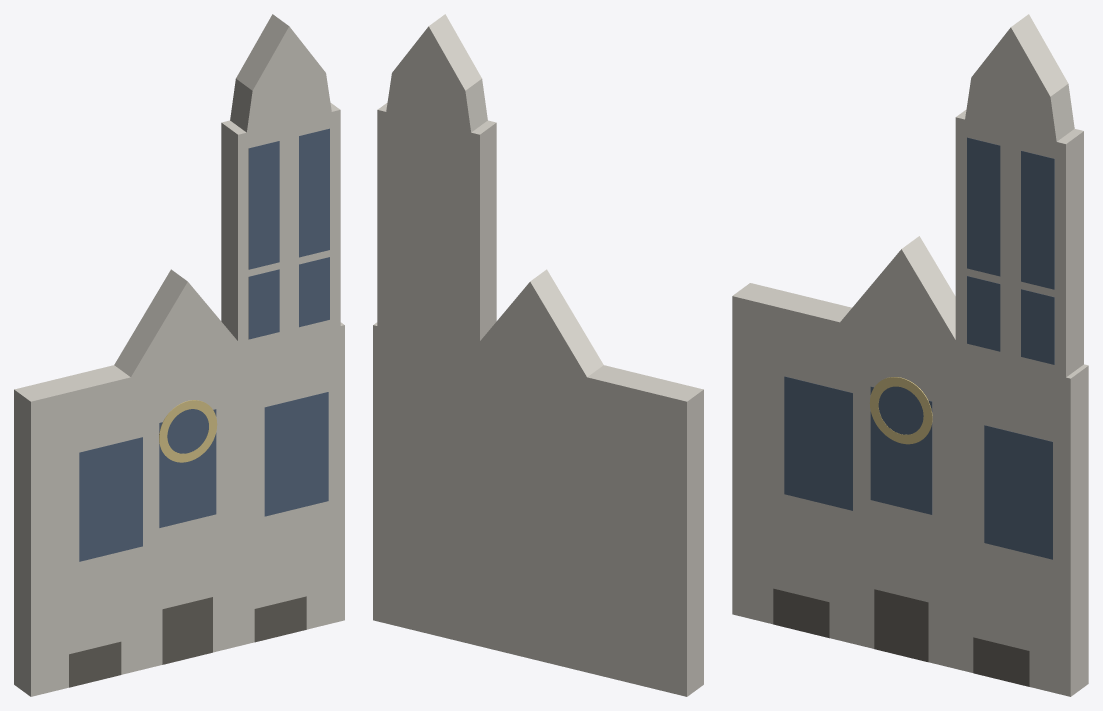
Rendered from SM_Facade.glb.
3 views of the same model, side by side, from view 1: azimuth 30°, elevation 25°; view 2: azimuth 150°, elevation 25°; view 3: azimuth 330°, elevation 25° (orthographic). The views are drawn at different scales.
Parts seen in each view (by area): view 1: SM_Facade_0, SM_Facade_4, SM_Facade_11, SM_Facade_12, SM_Facade_7, SM_Facade_5, SM_Facade_8, SM_Facade_6, SM_Facade_1, SM_Facade_9, SM_Facade_10, SM_Facade_2 (+3 smaller); view 2: SM_Facade_0; view 3: SM_Facade_0, SM_Facade_4, SM_Facade_11, SM_Facade_12, SM_Facade_5, SM_Facade_7, SM_Facade_6, SM_Facade_8, SM_Facade_1, SM_Facade_9, SM_Facade_10, SM_Facade_2 (+3 smaller).
Boxes of the visible parts, x1,y1,x2,y2 form: SM_Facade_0: [14, 14, 344, 696]; SM_Facade_4: [159, 409, 216, 527]; SM_Facade_11: [248, 141, 279, 269]; SM_Facade_12: [299, 128, 329, 257]; SM_Facade_7: [264, 399, 296, 516]; SM_Facade_5: [79, 445, 111, 561]; SM_Facade_8: [296, 392, 328, 508]; SM_Facade_6: [111, 437, 142, 553]; SM_Facade_1: [162, 597, 212, 664]; SM_Facade_9: [248, 269, 279, 339]; SM_Facade_10: [299, 257, 329, 327]; SM_Facade_2: [69, 641, 121, 687]; SM_Facade_0: [373, 14, 703, 696]; SM_Facade_0: [732, 14, 1088, 696]; SM_Facade_4: [870, 386, 932, 514]; SM_Facade_11: [967, 137, 1000, 276]; SM_Facade_12: [1021, 150, 1054, 289]; SM_Facade_5: [784, 376, 818, 502]; SM_Facade_7: [984, 425, 1018, 551]; SM_Facade_6: [818, 385, 852, 510]; SM_Facade_8: [1018, 433, 1052, 559]; SM_Facade_1: [874, 589, 928, 662]; SM_Facade_9: [967, 276, 1000, 351]; SM_Facade_10: [1021, 289, 1054, 364]; SM_Facade_2: [773, 588, 829, 638].
Size of the model in its own units: 32.5 by 60.1 by 3.07.
